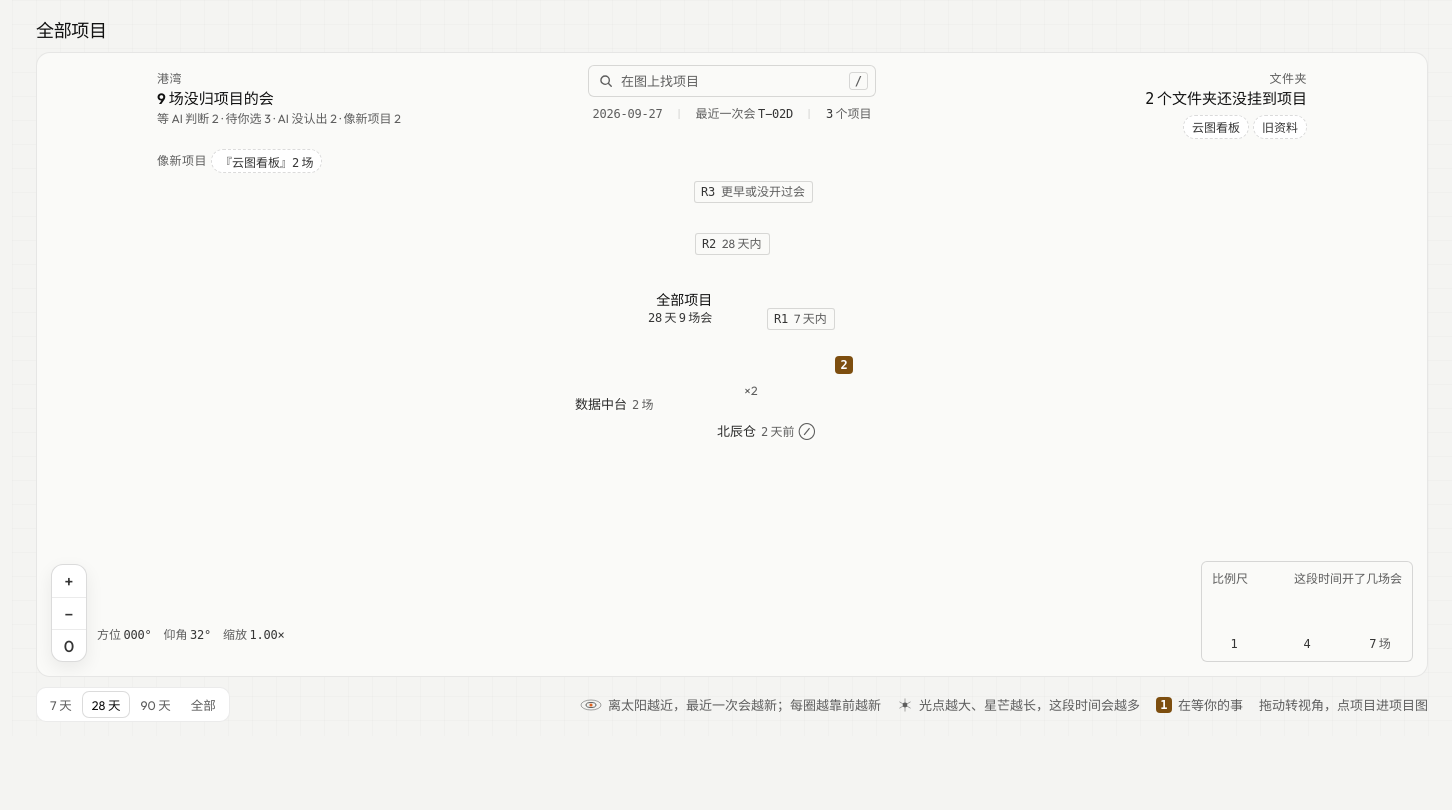
it: OverviewGraph › 聚焦过的文件夹被藏起以后，这一列的 Tab 停靠点退回到剩下的第一个
The image size is (1452, 810).
Click the button with aria-label "没挂到项目的文件夹：旧资料" at (1280,127), box 1253,115 -> 1307,139
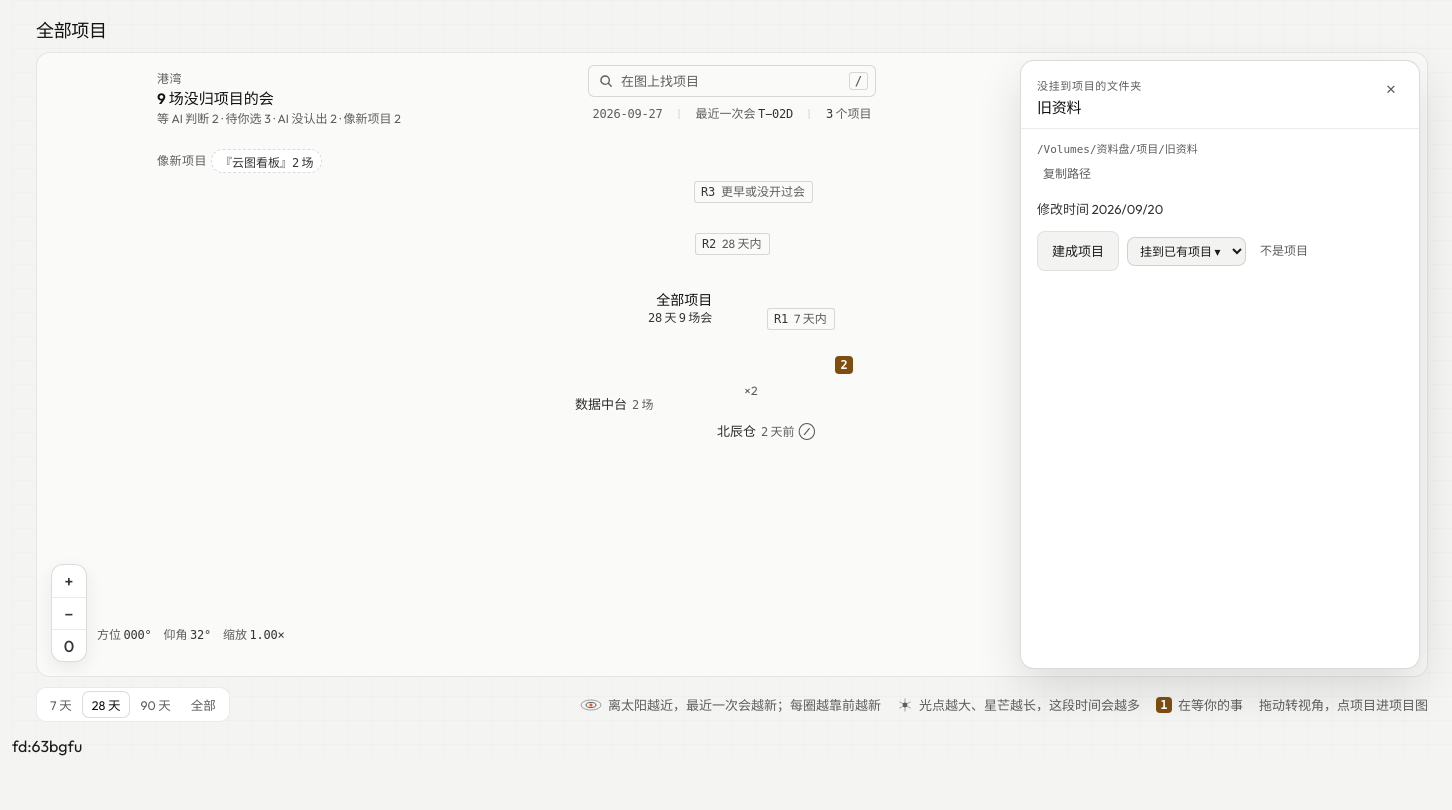
Click the button "不是项目" at (1284,251), box 1254,237 -> 1314,265
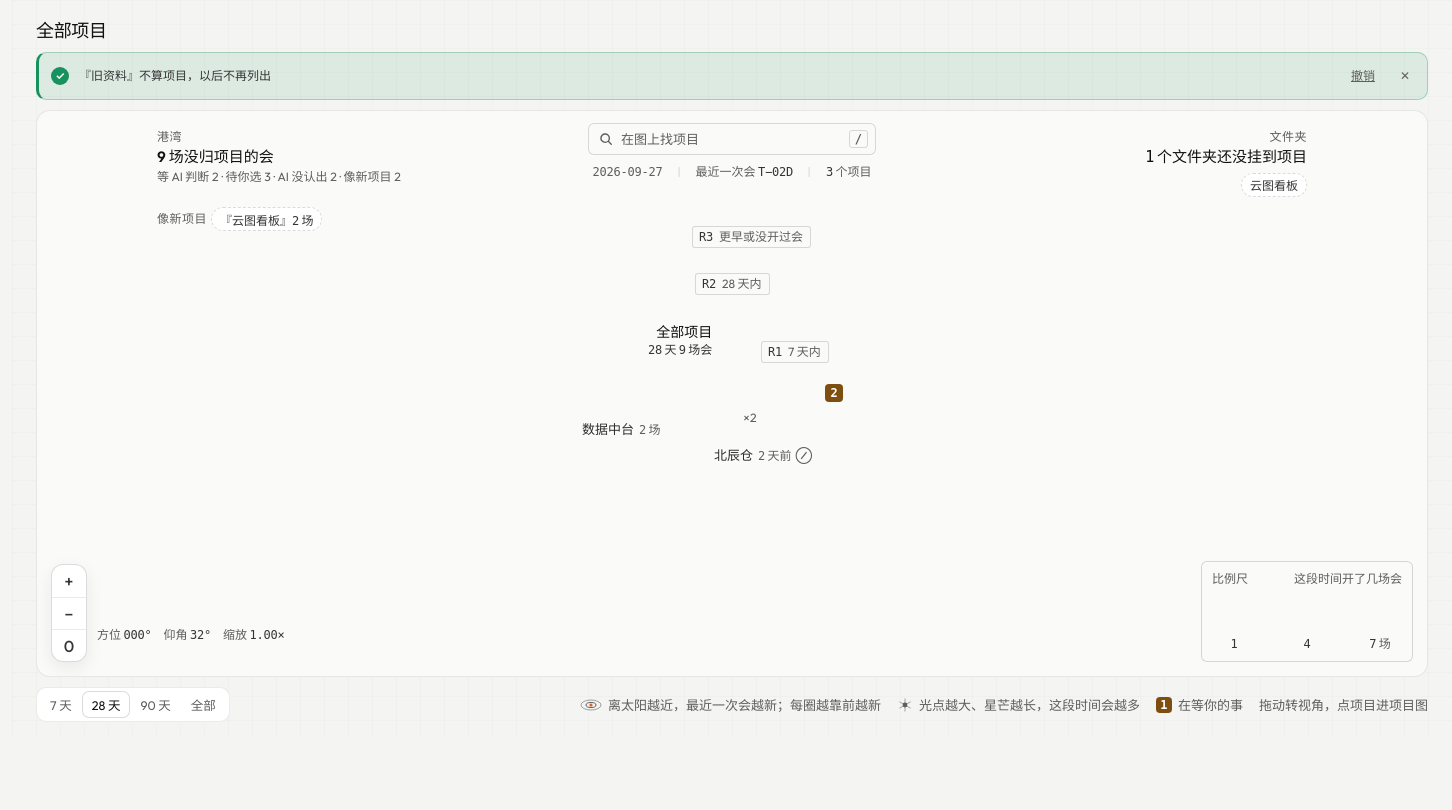
Result: the button "没挂到项目的文件夹：旧资料" is gone
